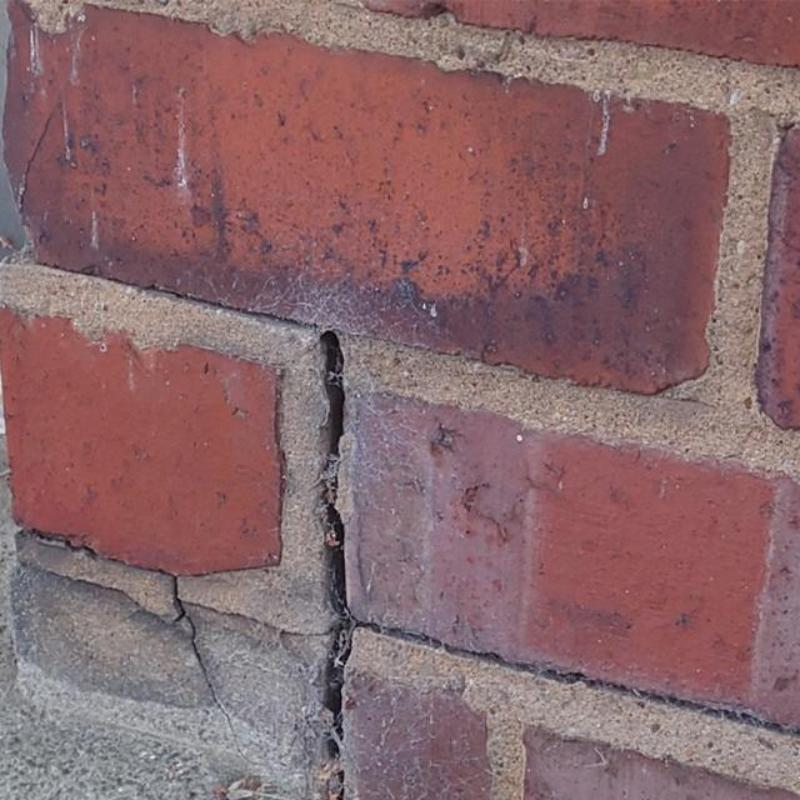pothole: (363, 622, 799, 737), (322, 331, 359, 799), (173, 577, 237, 739), (19, 104, 56, 219)
